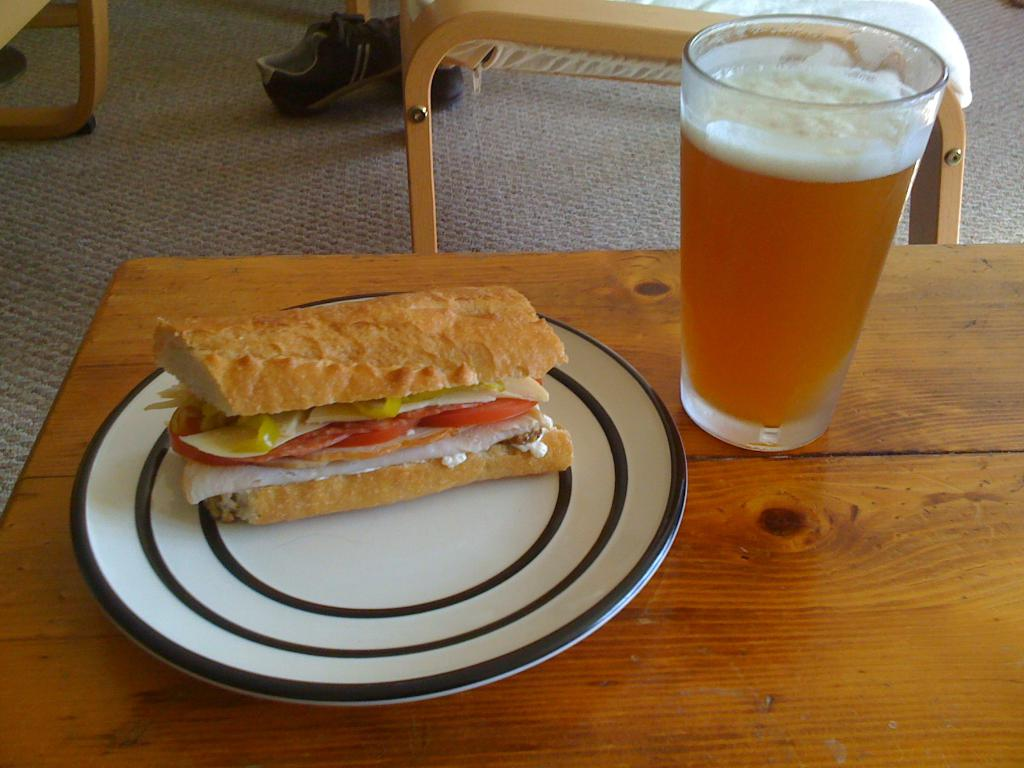Beer: (681, 14, 951, 464)
